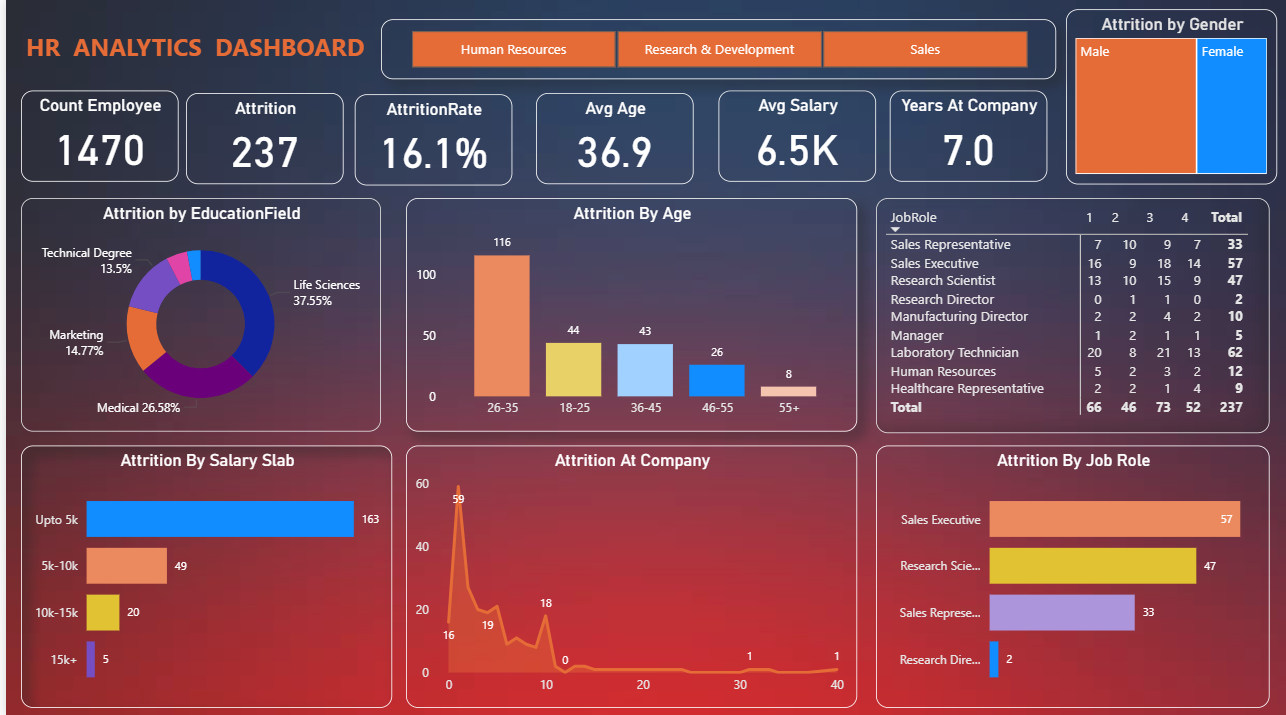

Layout of this report page (visuals, bound fields, positions):
{"tool":"powerbi","page":{"name":"Page 1","canvas":[1280,720],"ordinal":0},"visuals":[{"type":"card","title":"Count Employee","fields":{"Values":["CountNonNull(HR_Analytics.EmpID)"]},"box":[15,92.5,157.5,91.2],"z":0},{"type":"card","title":"Attrition","fields":{"Values":["Sum(HR_Analytics.AttritionCount)"]},"box":[180,95,157.5,91.2],"z":1000},{"type":"card","title":"AttritionRate","fields":{"Values":["HR_Analytics.AttritionRate"]},"box":[348.8,96.2,157.5,91.2],"z":2000},{"type":"card","title":"Years At Company","fields":{"Values":["Avg(HR_Analytics.YearsAtCompany)"]},"box":[883.8,92.5,157.5,91.2],"z":3000},{"type":"card","title":"Avg Salary","fields":{"Values":["Avg(HR_Analytics.MonthlyIncome)"]},"box":[712.5,92.5,157.5,91.2],"z":4000},{"type":"card","title":"Avg Age","fields":{"Values":["Avg(HR_Analytics.Age)"]},"box":[530,95,157.5,91.2],"z":5000},{"type":"columnChart","title":" Attrition By Age","fields":{"Category":["HR_Analytics.AgeGroup"],"Y":["Sum(HR_Analytics.AttritionCount)"]},"box":[400,200,451.2,233.8],"z":7000},{"type":"barChart","title":" Attrition By Salary Slab","fields":{"Category":["HR_Analytics.SalarySlab"],"Y":["Sum(HR_Analytics.AttritionCount)"]},"box":[15,447.5,371.2,262.5],"z":8000},{"type":"areaChart","title":" Attrition At Company","fields":{"Category":["HR_Analytics.YearsAtCompany"],"Y":["Sum(HR_Analytics.AttritionCount)"]},"box":[400,447.5,451.2,262.5],"z":9000},{"type":"barChart","title":" Attrition By Job Role","fields":{"Category":["HR_Analytics.JobRole"],"Y":["Sum(HR_Analytics.AttritionCount)"]},"box":[870,447.5,393.8,262.5],"z":10000},{"type":"pivotTable","fields":{"Rows":["HR_Analytics.JobRole"],"Columns":["HR_Analytics.JobSatisfaction"],"Values":["Sum(HR_Analytics.AttritionCount)"]},"box":[870,200,393.8,235],"z":11000},{"type":"treemap","title":" Attrition by Gender","fields":{"Group":["HR_Analytics.Gender"],"Values":["Sum(HR_Analytics.AttritionCount)"]},"box":[1060,11.2,211.2,175],"z":12000},{"type":"slicer","fields":{"Values":["HR_Analytics.Department"]},"box":[375,21.2,675,60],"z":13000},{"type":"textbox","box":[15,27.5,360,48.8],"z":14000},{"type":"donutChart","title":"Attrition by EducationField","fields":{"Category":["HR_Analytics.EducationField"],"Y":["Sum(HR_Analytics.AttritionCount)"]},"box":[15,200,360,233.8],"z":14001}]}

Visuals, with their boxes in screenshot pixels (x1, y1, x2, y2), scaled from the page's 1280x720 canvas onto the 1286x715 screenshot:
"Count Employee" card: (15, 92, 173, 182)
"Attrition" card: (181, 94, 339, 185)
"AttritionRate" card: (350, 96, 509, 186)
"Years At Company" card: (888, 92, 1046, 182)
"Avg Salary" card: (716, 92, 874, 182)
"Avg Age" card: (532, 94, 691, 185)
" Attrition By Age" columnChart: (402, 199, 855, 431)
" Attrition By Salary Slab" barChart: (15, 444, 388, 705)
" Attrition At Company" areaChart: (402, 444, 855, 705)
" Attrition By Job Role" barChart: (874, 444, 1270, 705)
pivotTable - HR_Analytics.JobRole x HR_Analytics.JobSatisfaction: (874, 199, 1270, 432)
" Attrition by Gender" treemap: (1065, 11, 1277, 185)
slicer - HR_Analytics.Department: (377, 21, 1055, 81)
textbox: (15, 27, 377, 76)
"Attrition by EducationField" donutChart: (15, 199, 377, 431)
